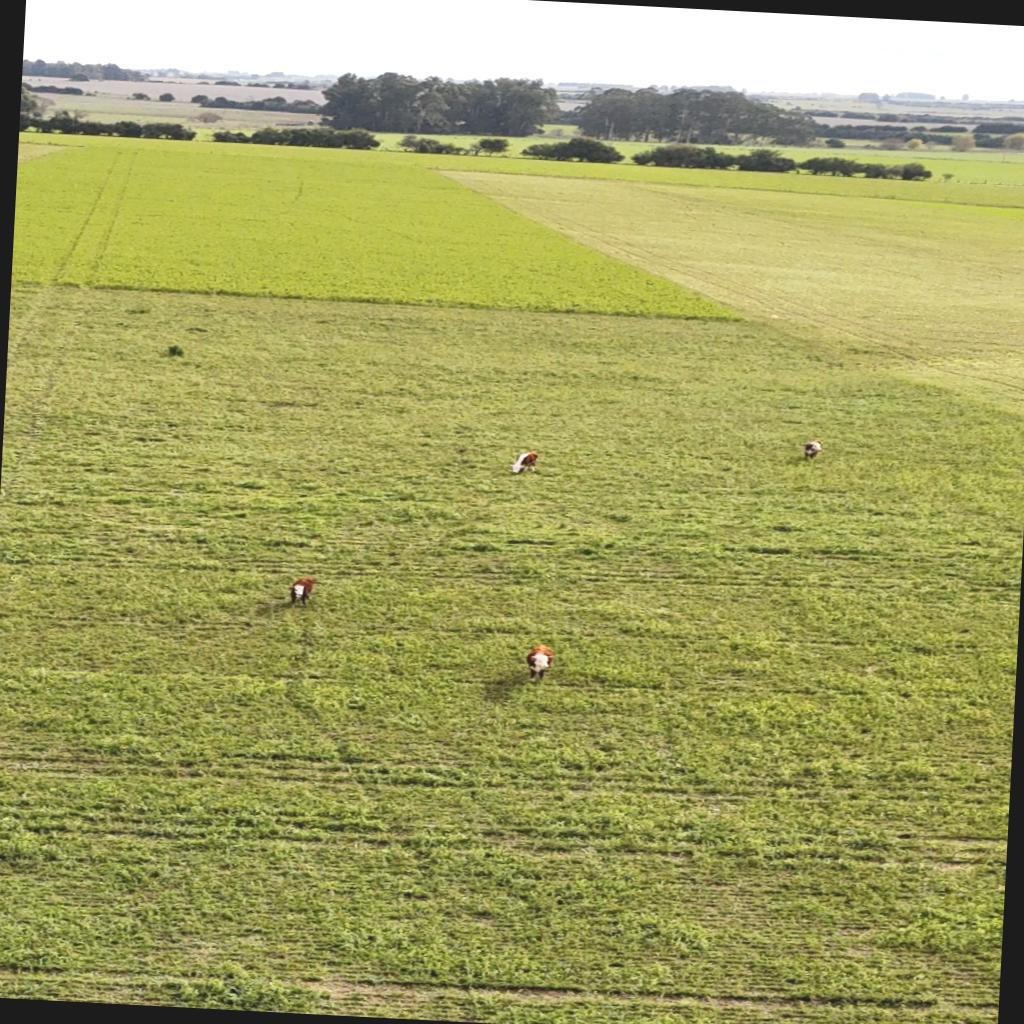cow: (282, 576, 318, 610), (525, 648, 555, 684), (508, 448, 540, 474), (798, 438, 826, 462)
